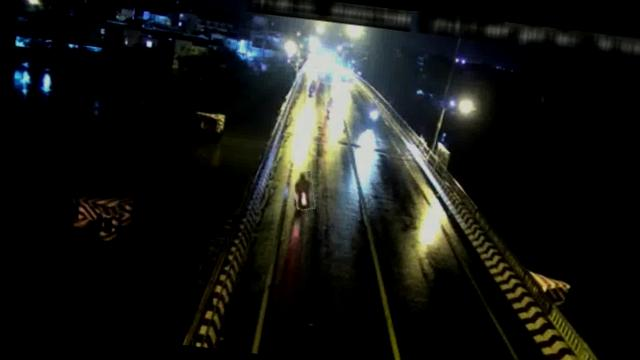Bike: (289, 170, 316, 210)
